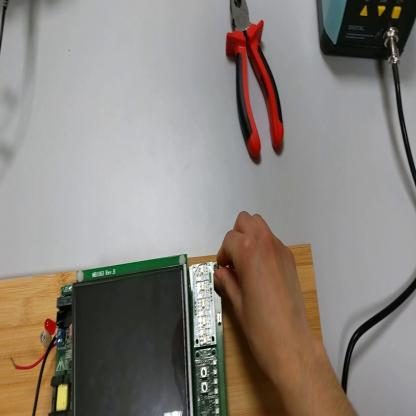hand: (213, 210, 314, 377)
low voltage board: (10, 254, 227, 416)
pliers: (228, 1, 286, 165)
welder station: (318, 1, 416, 60)
working area: (1, 242, 323, 416)
